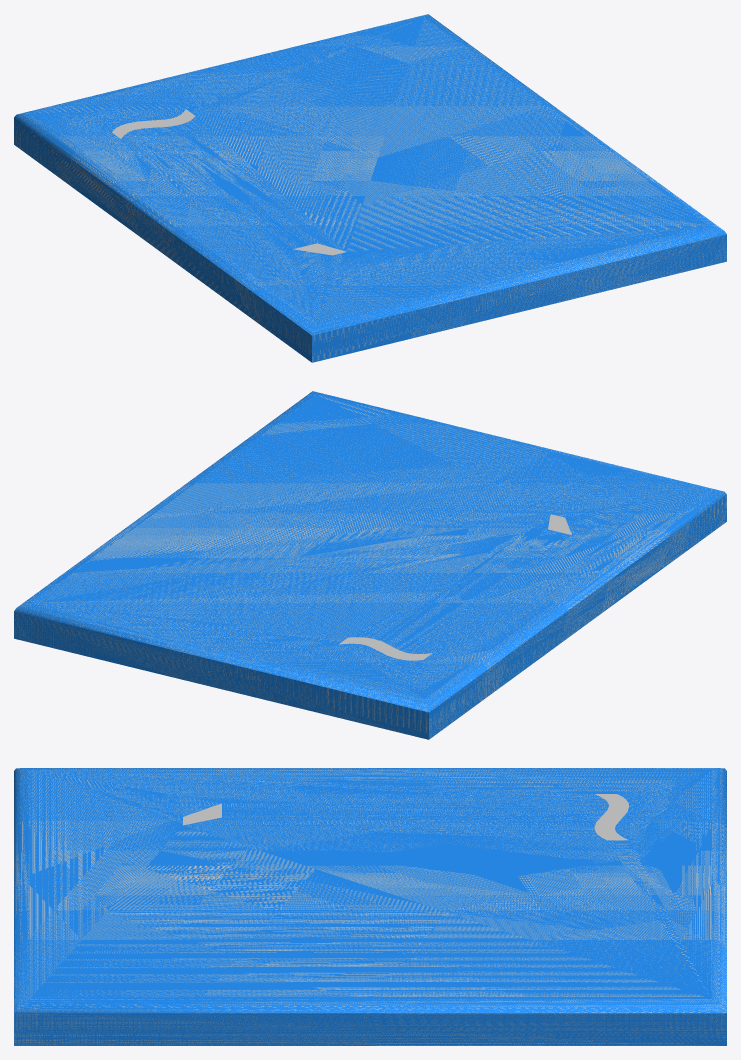
The model's file is original-13.obj.
3 renders of one model, top to bottom at view 1: azimuth 30°, elevation 25°; view 2: azimuth 150°, elevation 25°; view 3: azimuth 270°, elevation 25°, orthographic. The views are drawn at different scales.
Parts seen in each view (by area): view 1: mesh19/mesh19-geometry#mesh19-geometry; view 2: mesh19/mesh19-geometry#mesh19-geometry; view 3: mesh19/mesh19-geometry#mesh19-geometry.
Part boxes in pixels (left/top/right/bottom): mesh19/mesh19-geometry#mesh19-geometry: left=14, top=14, right=726, bottom=362; mesh19/mesh19-geometry#mesh19-geometry: left=14, top=391, right=726, bottom=739; mesh19/mesh19-geometry#mesh19-geometry: left=14, top=768, right=726, bottom=1045.
Size of the model in its own units: 0.0727 by 0.0056 by 0.0905.
